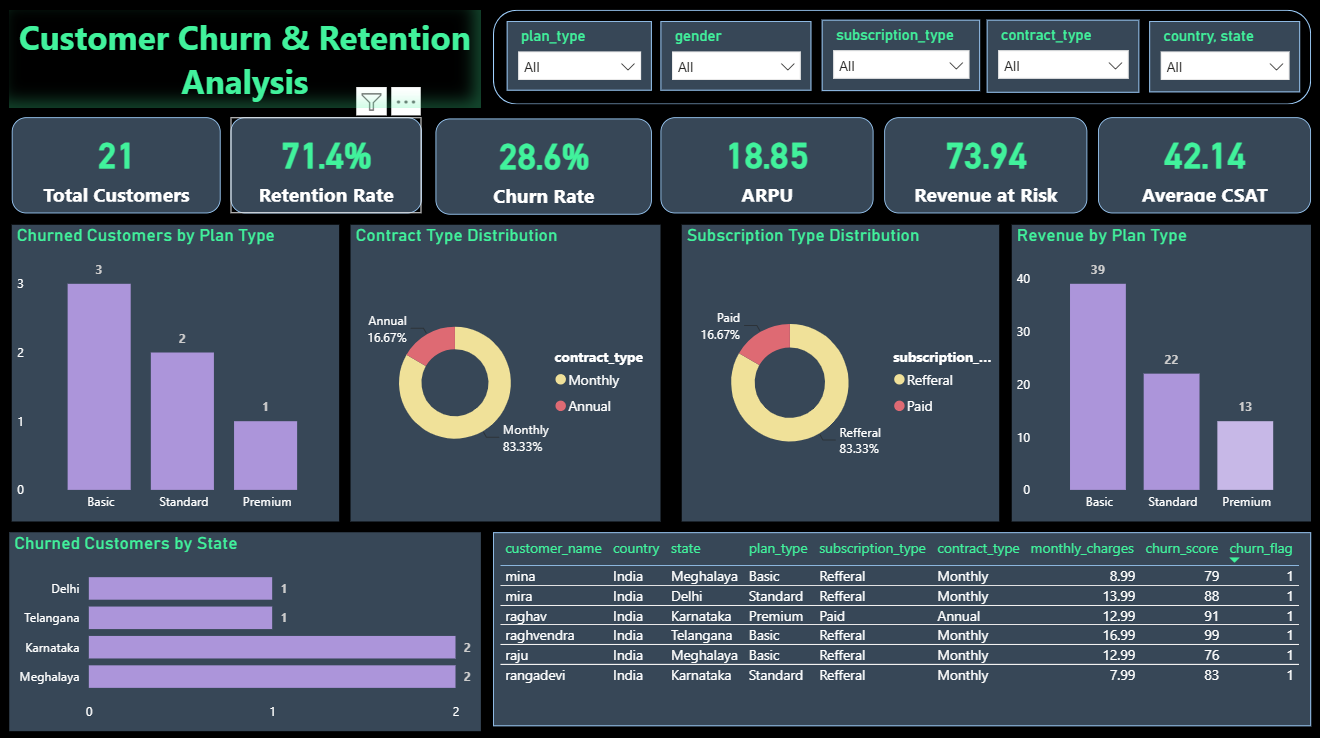

Layout of this report page (visuals, bound fields, positions):
{"tool":"powerbi","page":{"name":"Page 1","canvas":[1280,720],"ordinal":0},"visuals":[{"type":"shape","box":[477.8,12.9,789.6,91.6],"z":0},{"type":"card","fields":{"Values":["exported_churn_data.Total Customers"]},"box":[12.9,117.3,201.7,93],"z":1000},{"type":"card","fields":{"Values":["exported_churn_data.Retention Rate"]},"box":[224.6,117.3,184.5,93],"z":2000},{"type":"card","fields":{"Values":["exported_churn_data.Churn Rate"]},"box":[422,118.7,208.9,93],"z":3000},{"type":"card","fields":{"Values":["exported_churn_data.Revenue at Risk"]},"box":[855.4,117.3,196,93],"z":4000},{"type":"card","fields":{"Values":["exported_churn_data.ARPU"]},"box":[639.4,117.3,206,93],"z":5000},{"type":"card","fields":{"Values":["exported_churn_data.Average CSAT"]},"box":[1061.4,117.3,206,93],"z":6000},{"type":"clusteredBarChart","title":"Churned Customers by State","fields":{"Y":["CountNonNull(exported_churn_data.customerid)"],"Category":["exported_churn_data.state"]},"box":[11.4,517.8,454.9,191.7],"z":8000},{"type":"columnChart","title":"Revenue by Plan Type","fields":{"Category":["exported_churn_data.plan_type"],"Y":["Sum(exported_churn_data.monthly_charges)"]},"box":[978.5,220.3,289,286.1],"z":9000},{"type":"donutChart","title":"Contract Type Distribution","fields":{"Category":["exported_churn_data.contract_type"],"Y":["CountNonNull(exported_churn_data.customerid)"]},"box":[340.5,220.3,299,286.1],"z":10000},{"type":"donutChart","title":"Subscription Type Distribution","fields":{"Y":["CountNonNull(exported_churn_data.customerid)"],"Category":["exported_churn_data.subscription_type"]},"box":[659.5,220.3,306.1,286.1],"z":11000},{"type":"tableEx","title":"Contract Type DistributionContract Type Distribution","fields":{"Values":["exported_churn_data.customer_name","exported_churn_data.country","exported_churn_data.state","exported_churn_data.plan_type","exported_churn_data.subscription_type","exported_churn_data.contract_type","exported_churn_data.monthly_charges","exported_churn_data.churn_score","exported_churn_data.churn_flag"]},"box":[477.8,517.8,789.6,187.4],"z":12000},{"type":"slicer","fields":{"Values":["exported_churn_data.country","exported_churn_data.state"]},"box":[1111.5,24.3,145.9,68.7],"z":13000},{"type":"slicer","fields":{"Values":["exported_churn_data.plan_type"]},"box":[490.7,24.3,140.2,67.2],"z":14000},{"type":"slicer","fields":{"Values":["exported_churn_data.subscription_type"]},"box":[795.4,22.9,153.1,68.7],"z":15000},{"type":"slicer","fields":{"Values":["exported_churn_data.contract_type"]},"box":[954.1,22.9,147.3,70.1],"z":16000},{"type":"slicer","fields":{"Values":["exported_churn_data.gender"]},"box":[639.4,24.3,145.9,67.2],"z":17000},{"type":"textbox","box":[11.4,12.9,454.9,95],"z":18000},{"type":"columnChart","title":"Churned Customers by Plan Type","fields":{"Y":["CountNonNull(exported_churn_data.customerid)"],"Category":["exported_churn_data.plan_type"]},"box":[12.9,220.3,316.1,286.1],"z":18001}]}

Visuals, with their boxes in screenshot pixels (x1, y1, x2, y2), scaled from the page's 1280x720 canvas onto the 1320x738 screenshot:
shape: select_region(493, 13, 1307, 107)
card - exported_churn_data.Total Customers: select_region(13, 120, 221, 216)
card - exported_churn_data.Retention Rate: select_region(232, 120, 422, 216)
card - exported_churn_data.Churn Rate: select_region(435, 122, 651, 217)
card - exported_churn_data.Revenue at Risk: select_region(882, 120, 1084, 216)
card - exported_churn_data.ARPU: select_region(659, 120, 872, 216)
card - exported_churn_data.Average CSAT: select_region(1095, 120, 1307, 216)
"Churned Customers by State" clusteredBarChart: select_region(12, 531, 481, 727)
"Revenue by Plan Type" columnChart: select_region(1009, 226, 1307, 519)
"Contract Type Distribution" donutChart: select_region(351, 226, 659, 519)
"Subscription Type Distribution" donutChart: select_region(680, 226, 996, 519)
"Contract Type DistributionContract Type Distribution" tableEx: select_region(493, 531, 1307, 723)
slicer - exported_churn_data.country x exported_churn_data.state: select_region(1146, 25, 1297, 95)
slicer - exported_churn_data.plan_type: select_region(506, 25, 651, 94)
slicer - exported_churn_data.subscription_type: select_region(820, 23, 978, 94)
slicer - exported_churn_data.contract_type: select_region(984, 23, 1136, 95)
slicer - exported_churn_data.gender: select_region(659, 25, 810, 94)
textbox: select_region(12, 13, 481, 111)
"Churned Customers by Plan Type" columnChart: select_region(13, 226, 339, 519)
